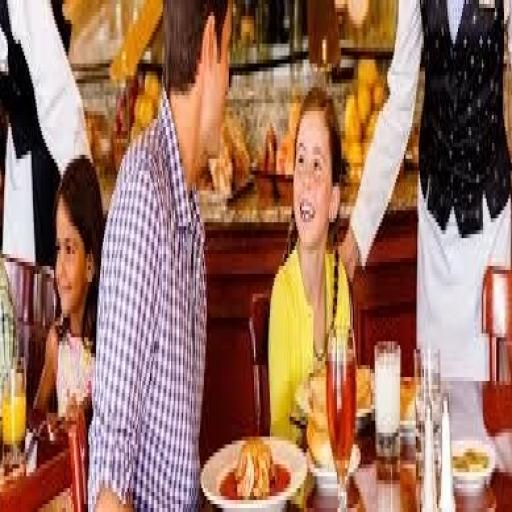eating: (86, 0, 236, 508)
